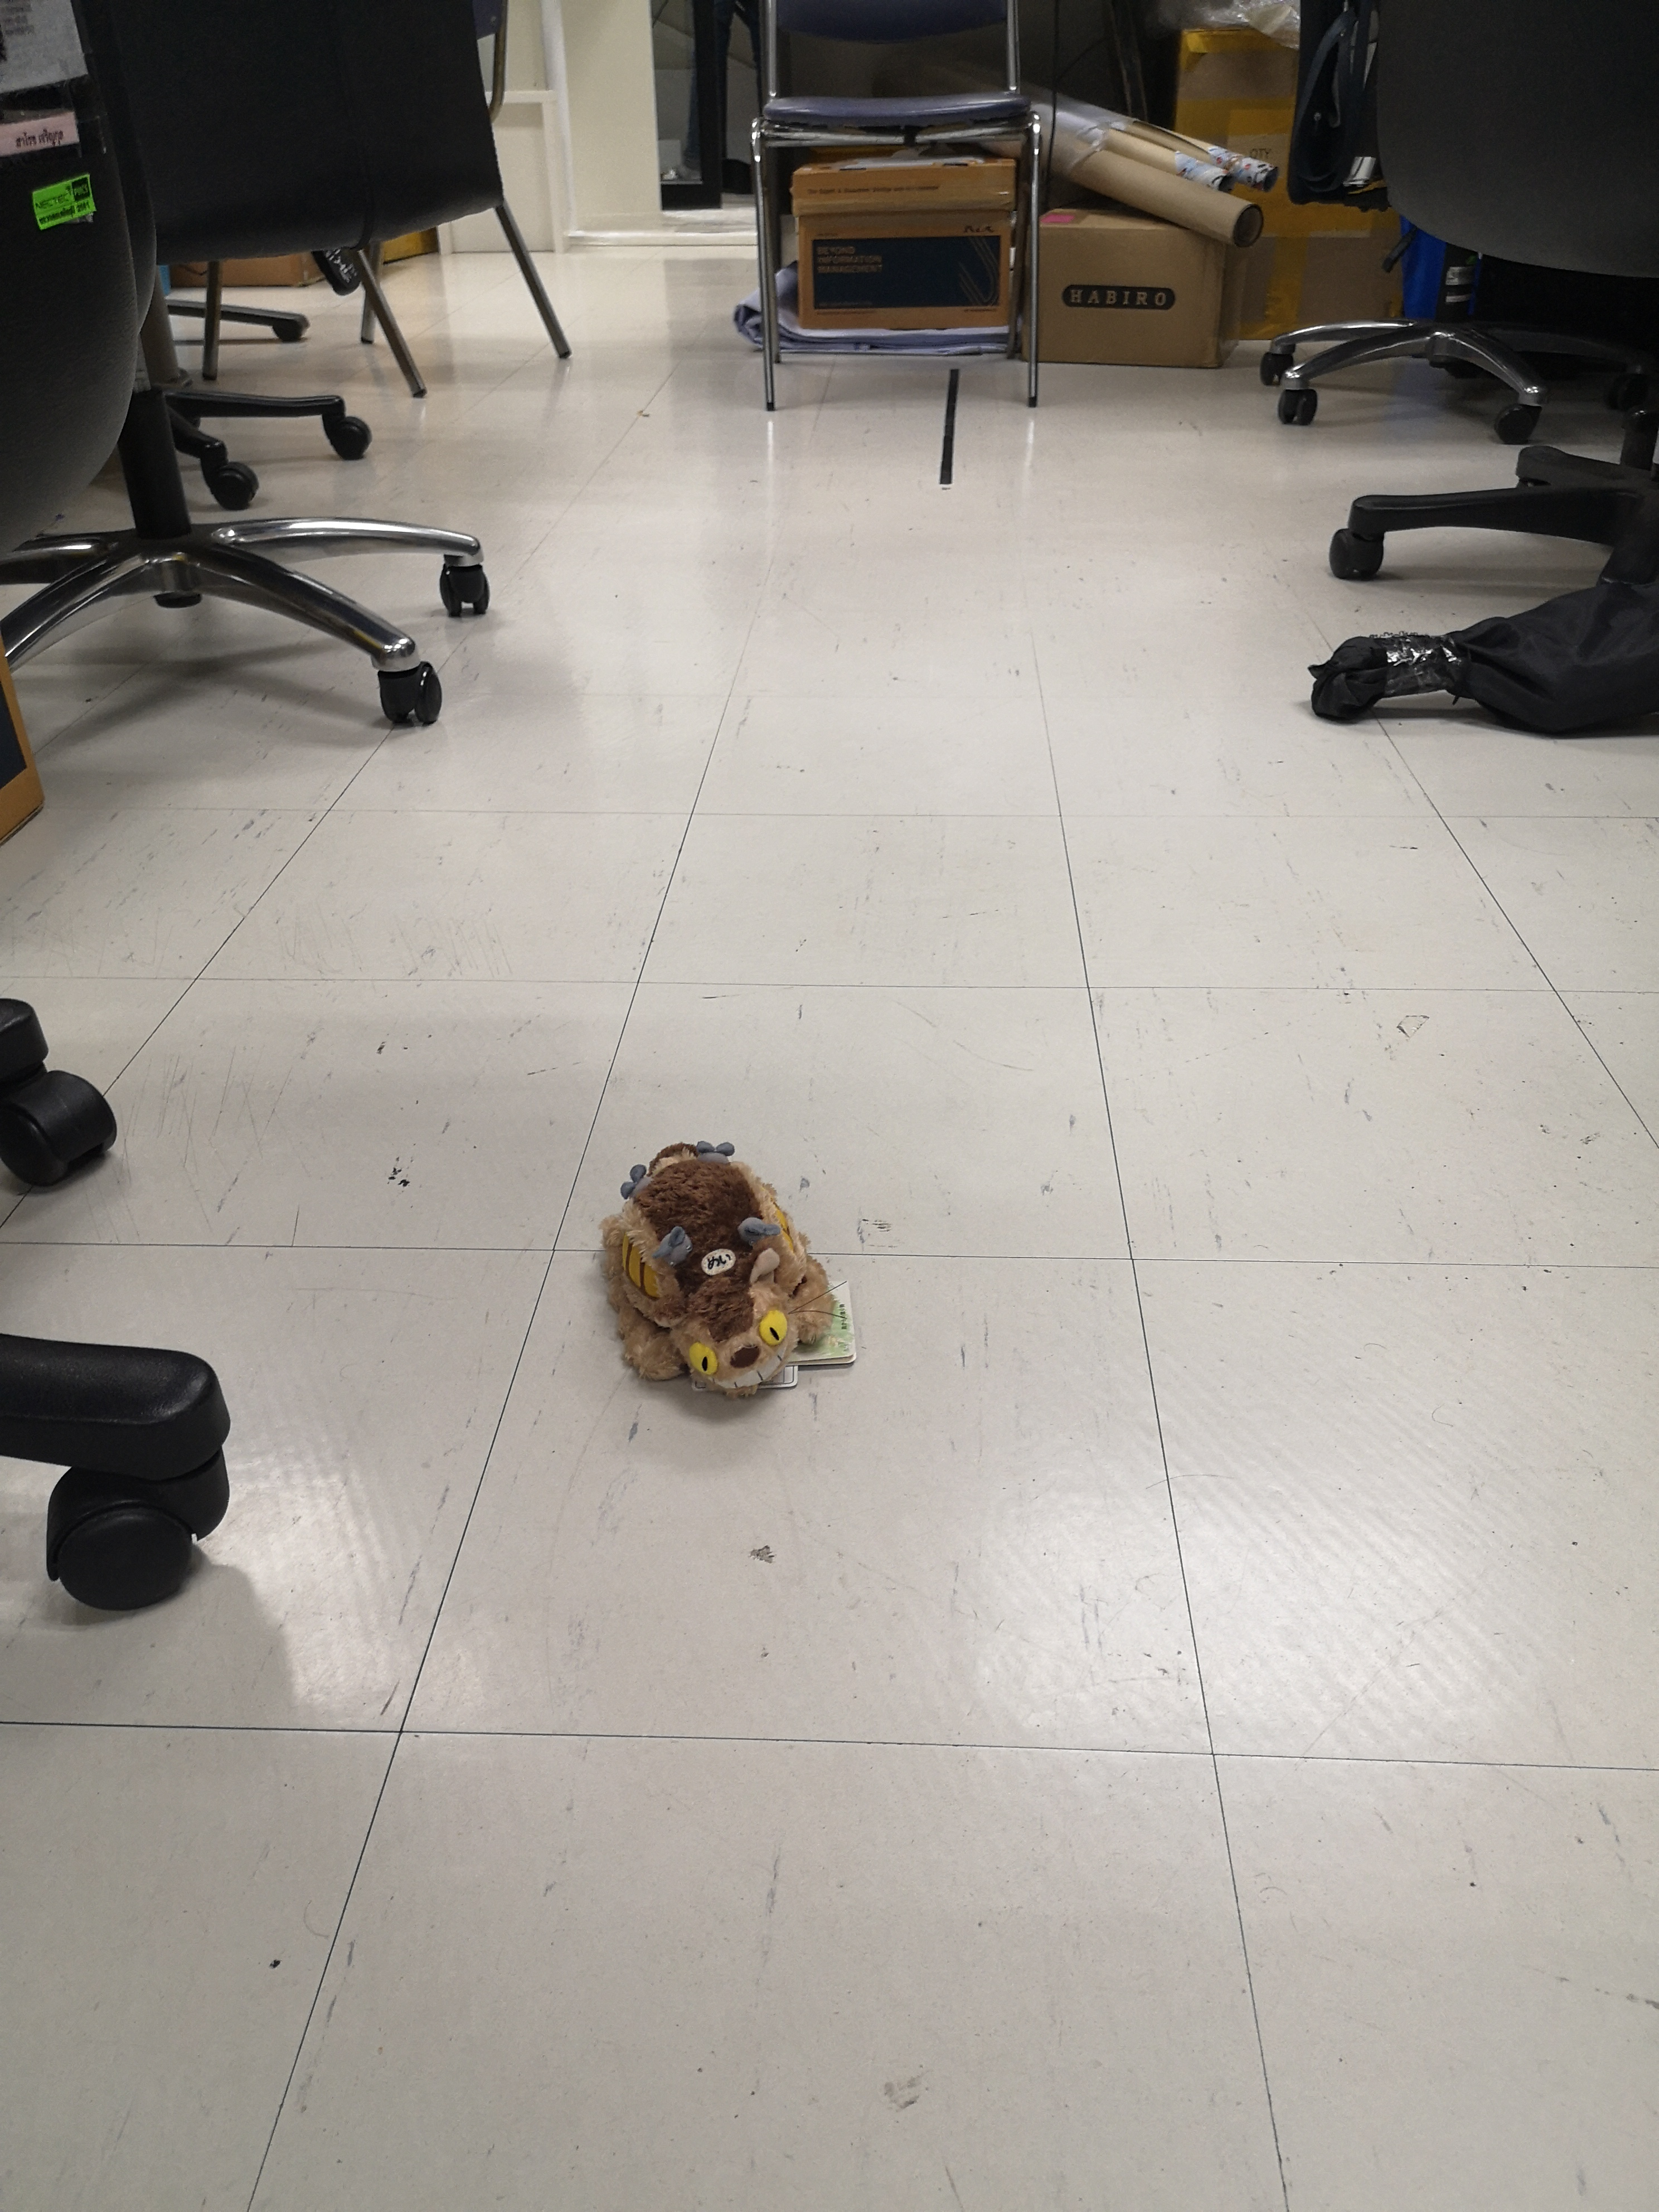nekobus: (582, 1127, 845, 1413)
